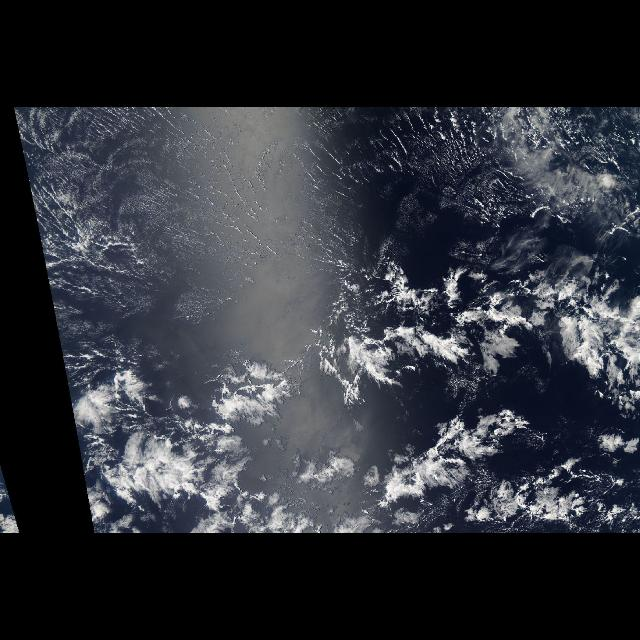Fish: (205, 288, 542, 506)
Flower: (68, 279, 638, 533)
Sugar: (15, 107, 640, 315)
